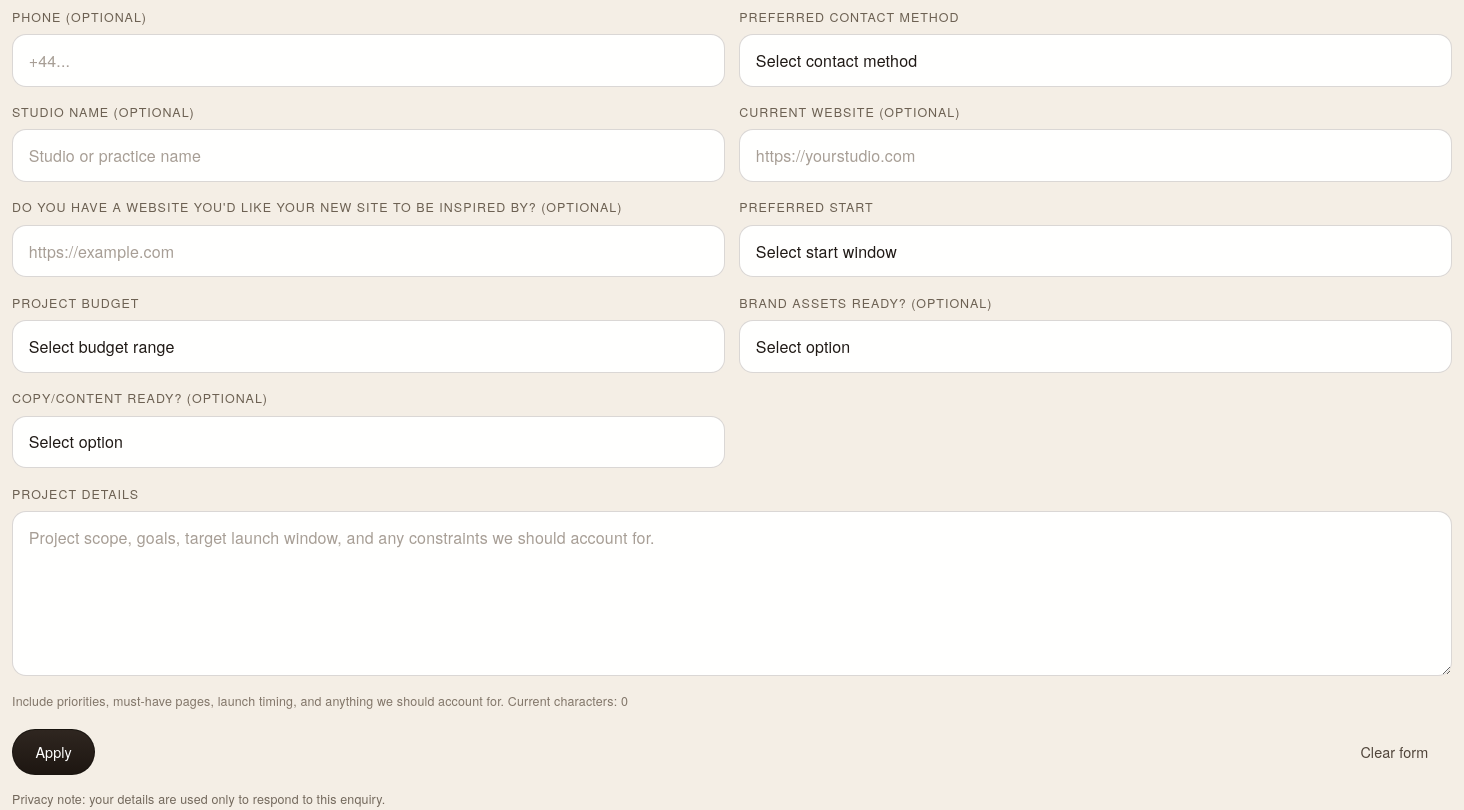
Test: Contact form validation › shows inline errors for missing required fields
(page scrolled)
Click the button "Apply" at (54, 752), box [12, 728, 95, 774]
(page scrolled)
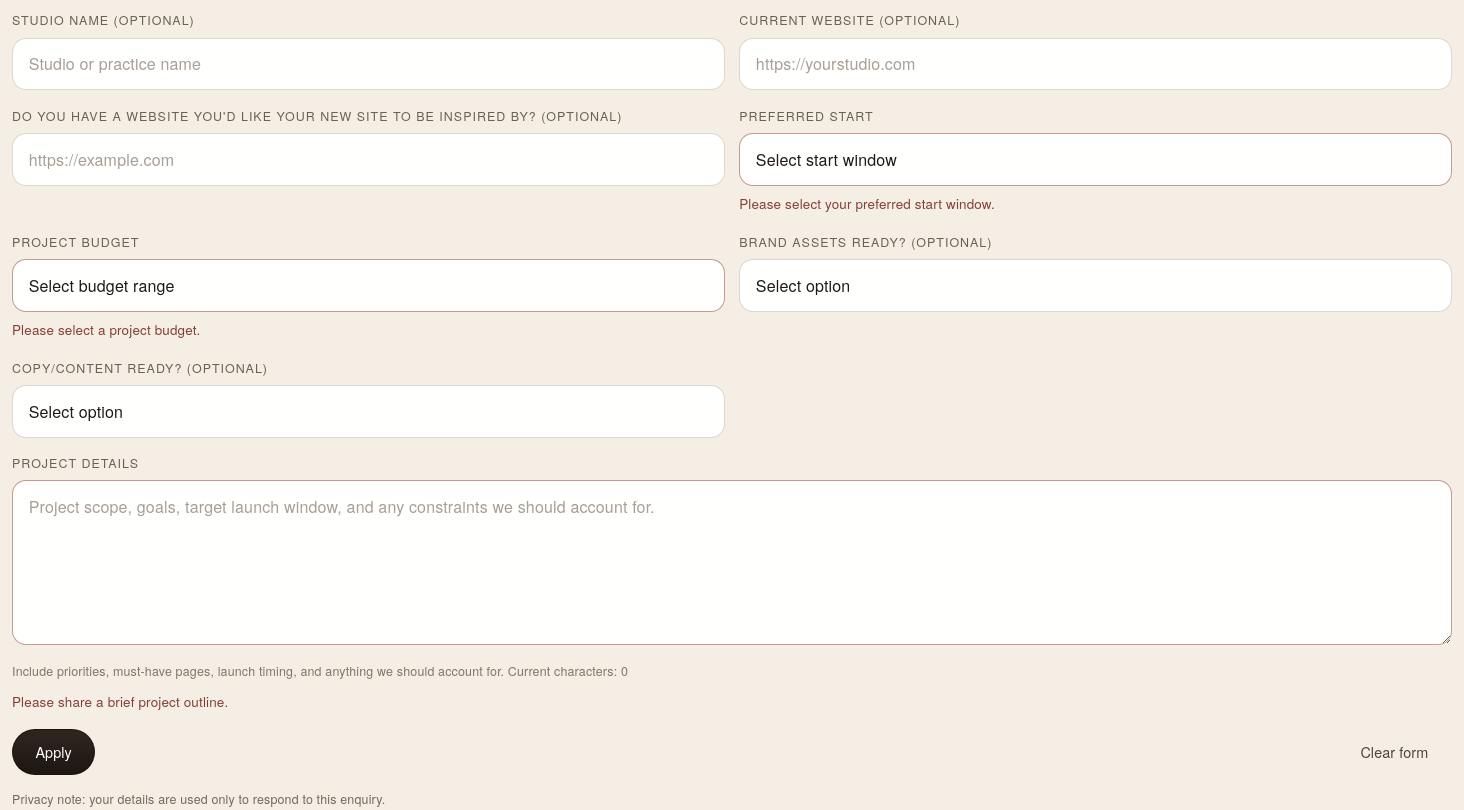
Expected: the text "Please select your preferred start window." is shown, [739, 194, 995, 213]
Expected: the text "Please select a project budget." is shown, [12, 320, 200, 339]
Expected: the text "Please share a brief project outline." is shown, [12, 692, 228, 711]
